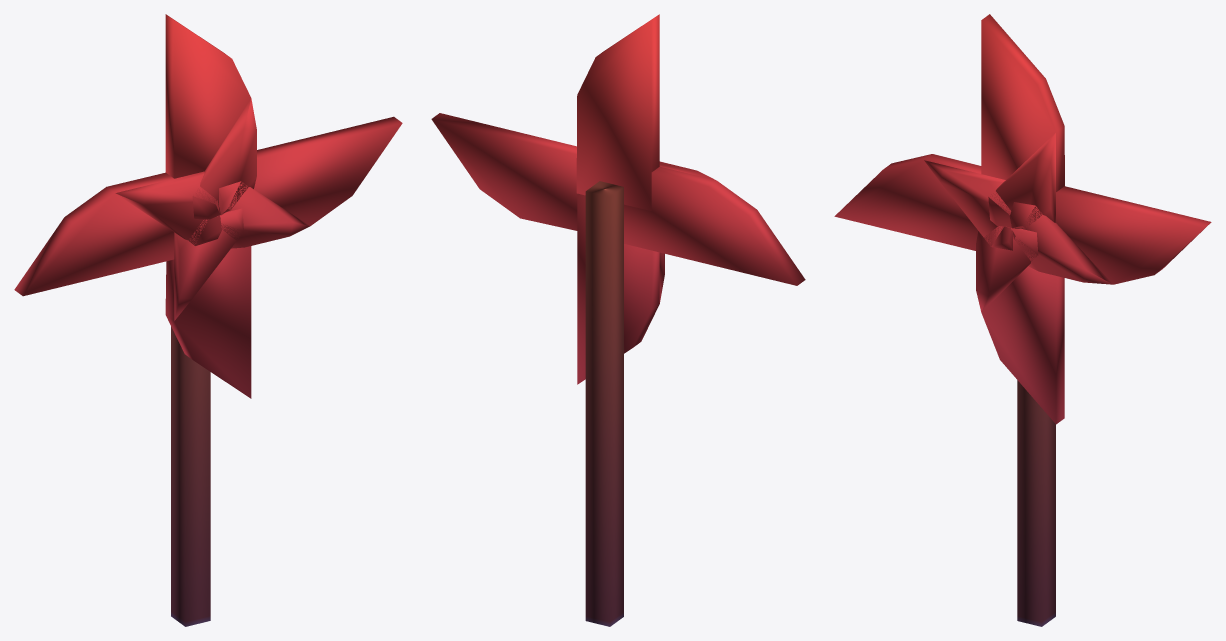
Rendered from PinWheel_Red.fbx.
3 renders of one model, left to right at view 1: azimuth 30°, elevation 25°; view 2: azimuth 150°, elevation 25°; view 3: azimuth 330°, elevation 25°, orthographic. The views are drawn at different scales.
Parts seen in each view (by area): view 1: PinWheel_Red, Pinwheel_Red; view 2: PinWheel_Red, Pinwheel_Red; view 3: PinWheel_Red, Pinwheel_Red.
Part boxes in pixels (x1,y1,x2,y2): PinWheel_Red: [14, 14, 402, 398]; Pinwheel_Red: [171, 326, 210, 626]; PinWheel_Red: [431, 14, 805, 384]; Pinwheel_Red: [585, 181, 623, 626]; PinWheel_Red: [834, 14, 1211, 424]; Pinwheel_Red: [1017, 380, 1055, 626].
Size of the model in its own units: 986 by 1543 by 168.
